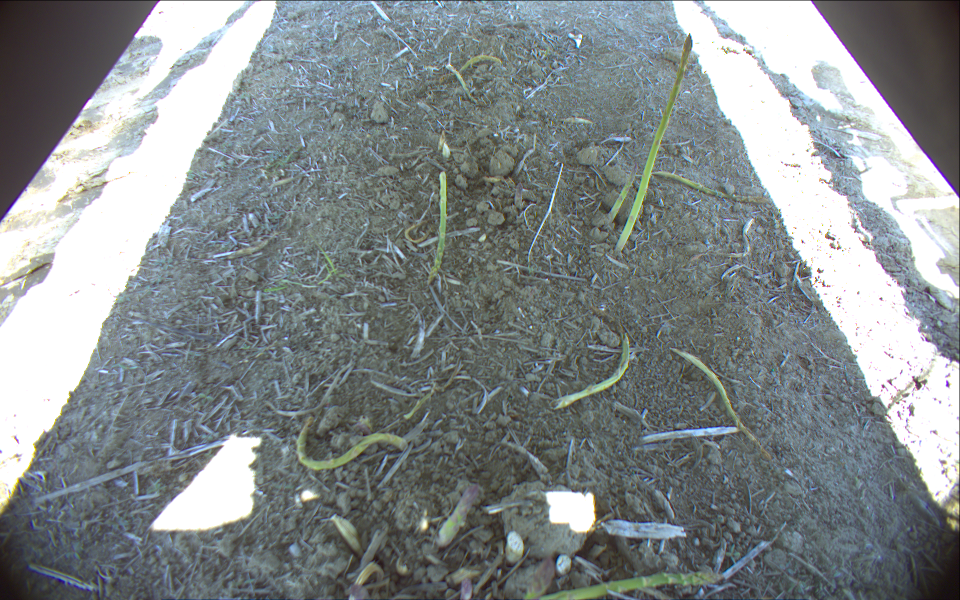aspa: (613, 32, 692, 254), (600, 160, 642, 228)
